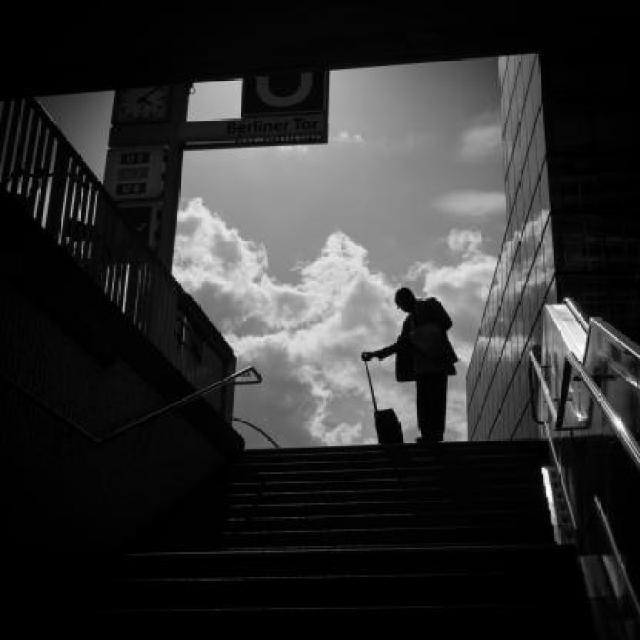stair: (116, 440, 598, 640)
